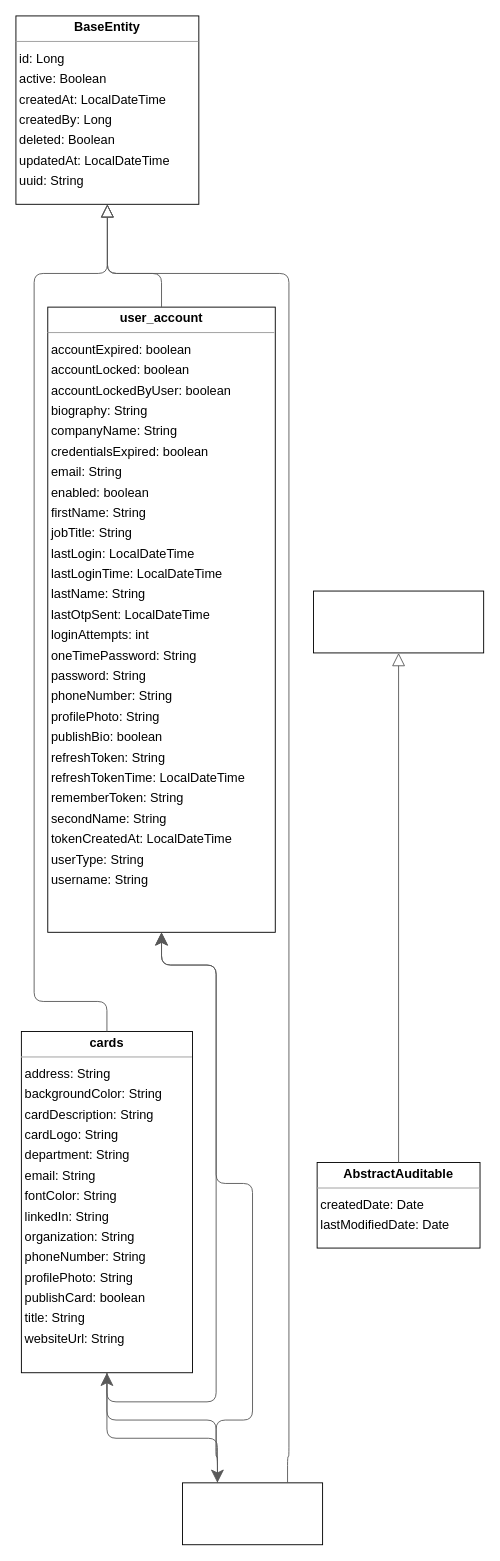
The diagram is 500 pixels wide and 1561 high, and some of its shapes have lost their labels. Each missing label, with the box of its shape:
AbstractPersistable id: PK: (313, 590, 484, 653)
card_groups groupName: String: (182, 1482, 323, 1545)
